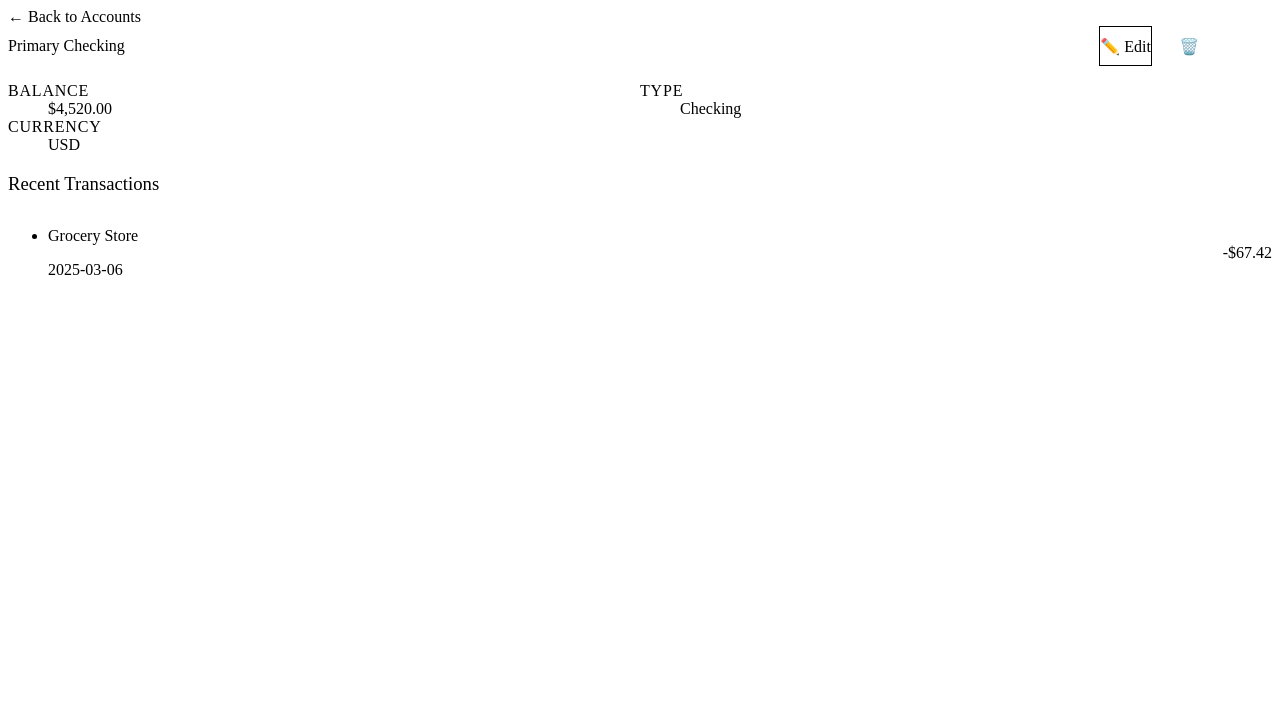
Scenario: AccountDetailPage › opens confirm dialog when delete button is clicked
This screenshot has width=1280, height=720.
Click the button with aria-label "delete primary checking".
click(1212, 46)  # box x1=1152 y1=26 x2=1272 y2=66
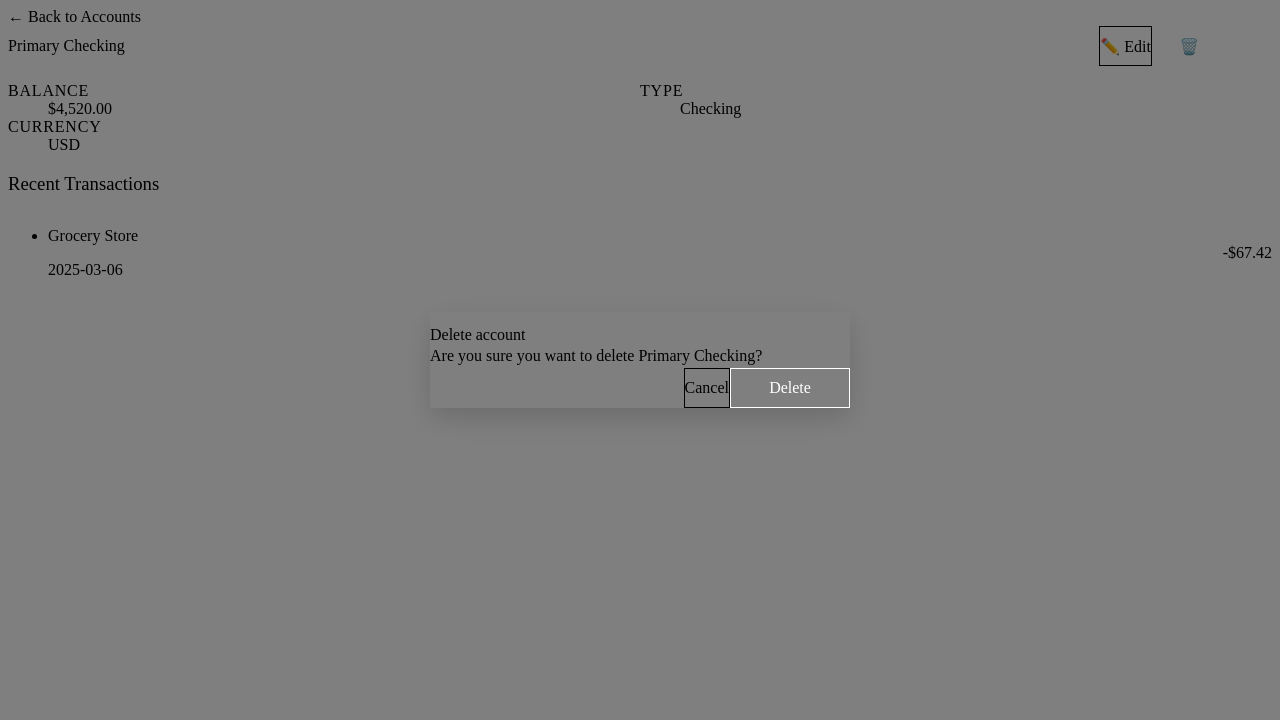
Expected: the dialog "Delete account" is shown, x1=430 y1=312 x2=850 y2=408
Expected: the text "Are you sure you want to delete Primary Checking?" is shown, x1=430 y1=347 x2=762 y2=364
